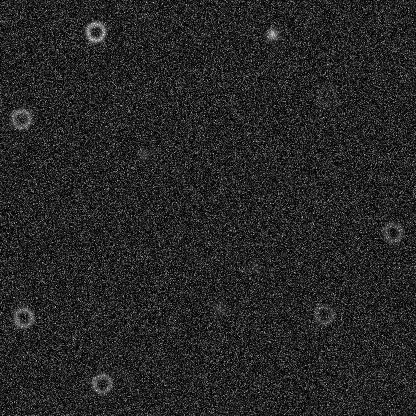Ring: (311, 302, 335, 326), (314, 84, 338, 108), (9, 106, 33, 130), (83, 19, 107, 43), (89, 371, 113, 395), (11, 305, 35, 329), (380, 220, 404, 244)
Spot: (211, 301, 227, 317), (135, 146, 151, 162), (264, 26, 280, 42), (247, 259, 263, 275)
